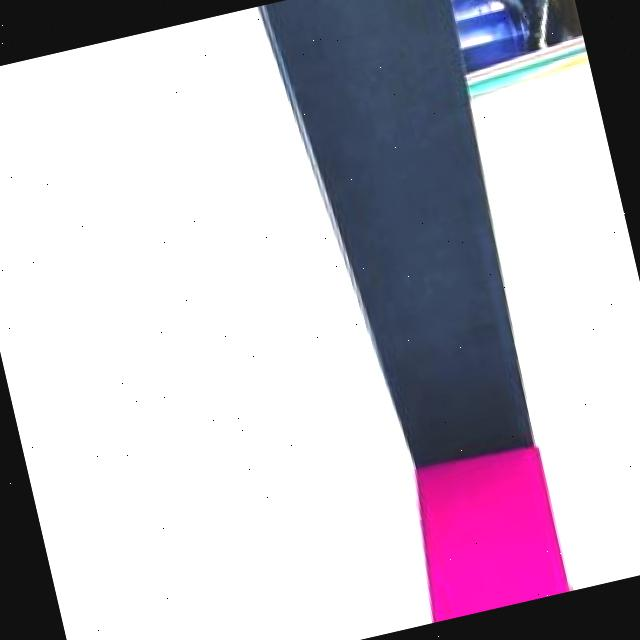xparking: (411, 450, 567, 620)
